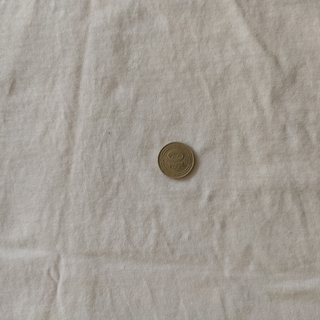10KURUS: (156, 140, 196, 179)
